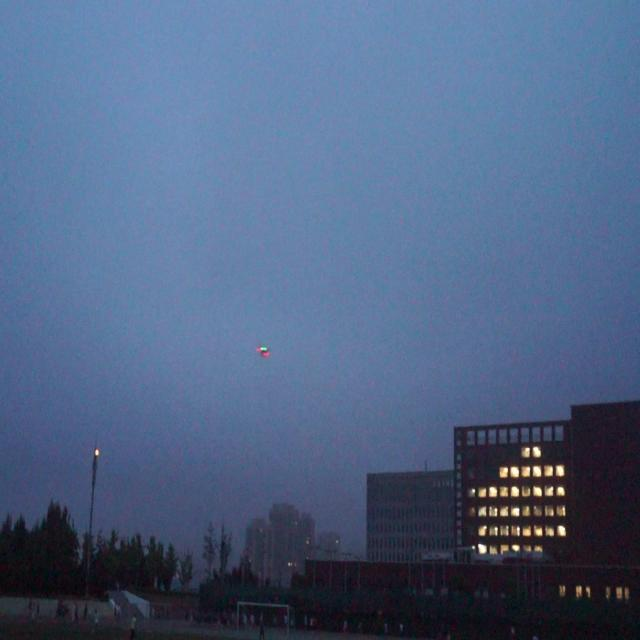UAV: (256, 346, 270, 356)
